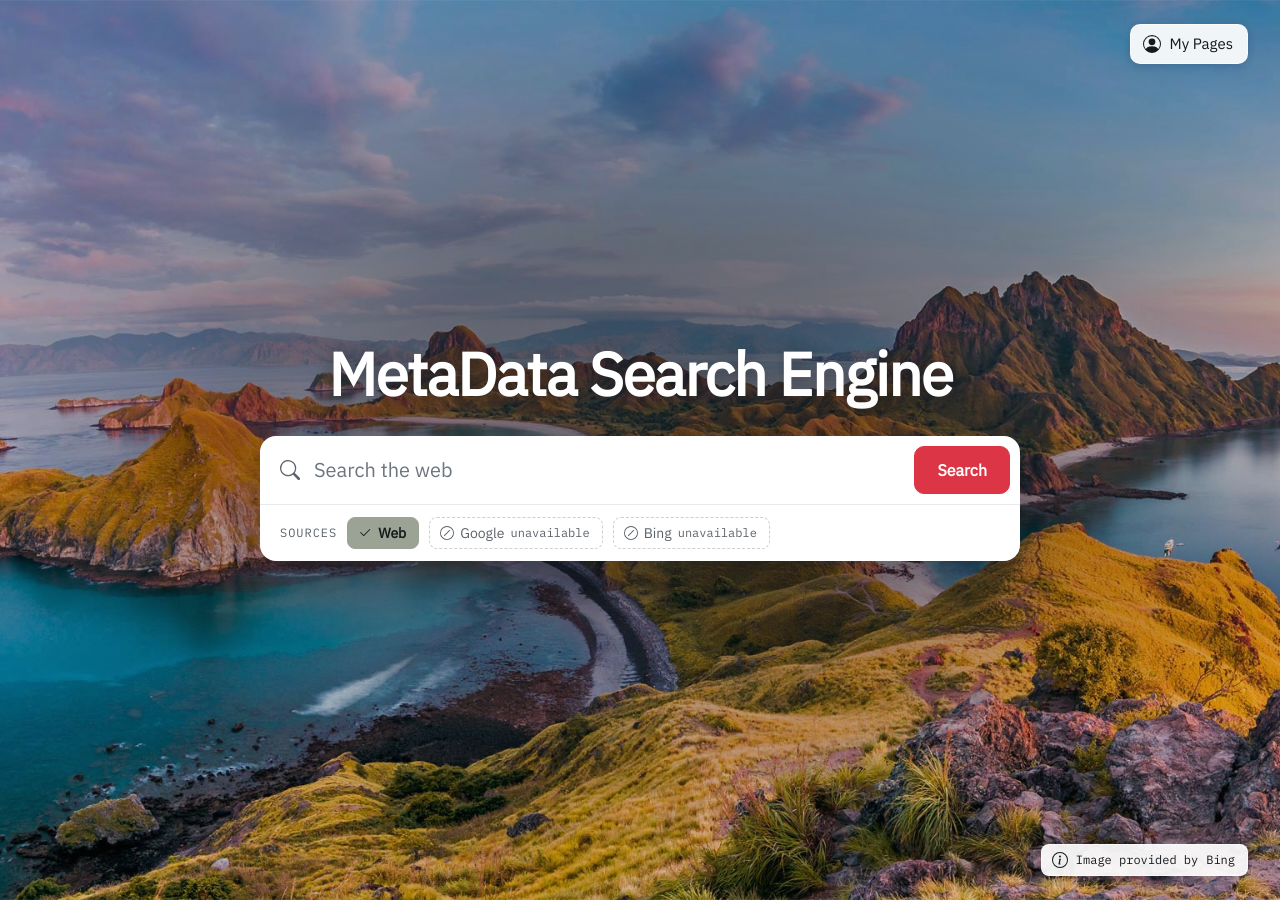
Scenario: search › explains why live search has no results: nokey
Type "burgers" into the field at (607, 470), box [314,446,900,494]
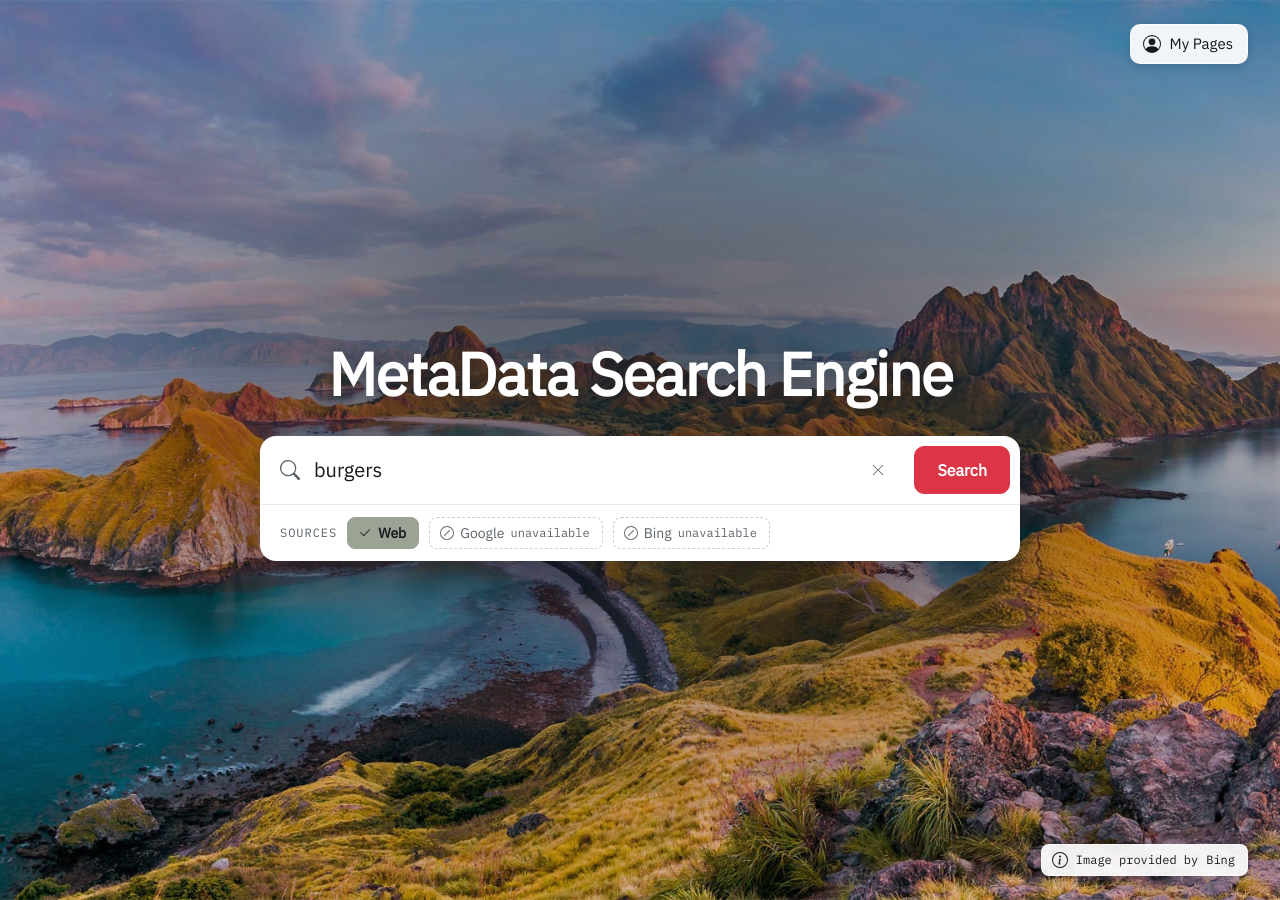
Click the button "Search" at (962, 470), box [914,446,1010,494]
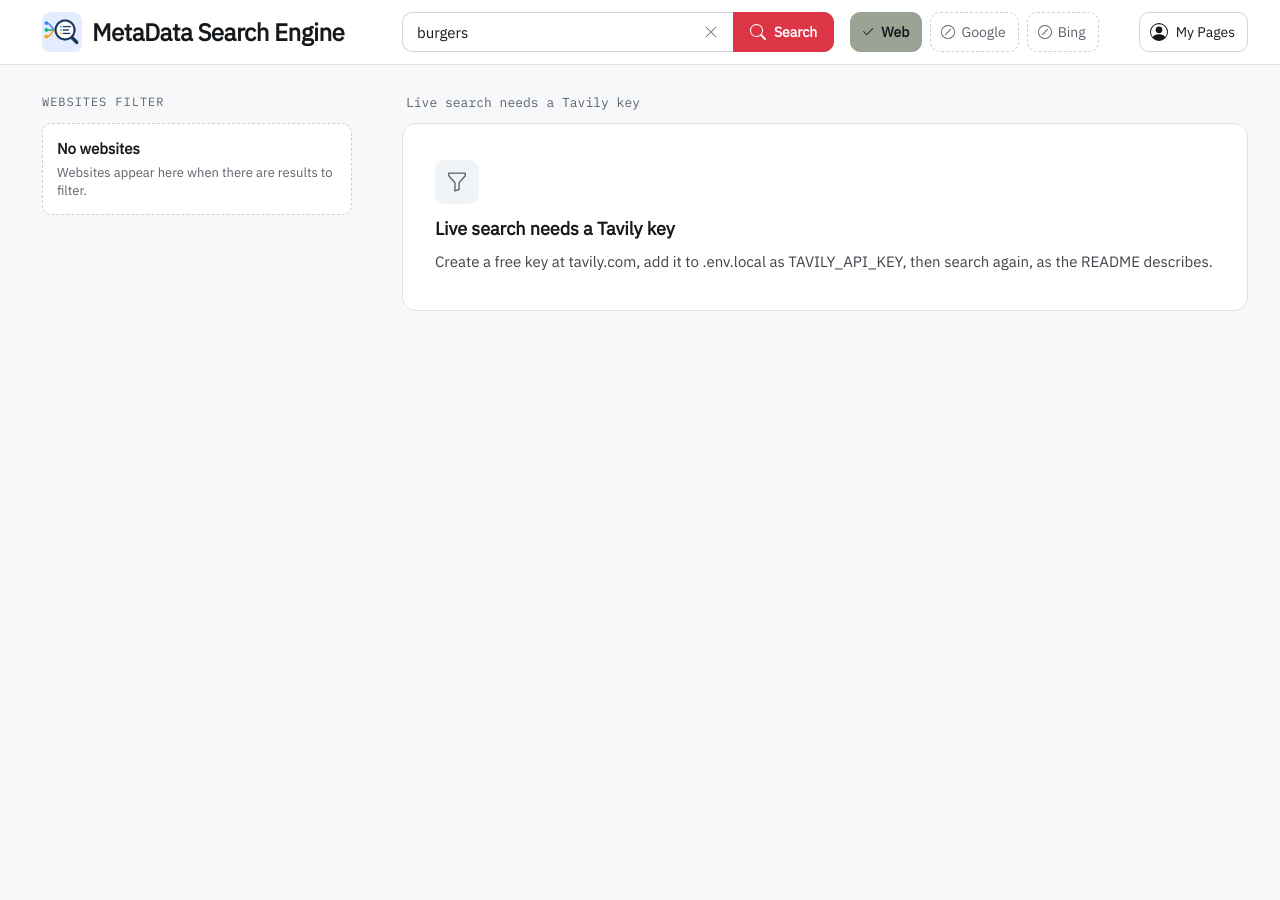
Check: the message reads "Live search needs a Tavily key", box [406,94,640,111]
Check: the heading "Live search needs a Tavily key" is shown, box [435,216,675,242]
Check: the text "TAVILY_API_KEY" is shown, box [435,252,1213,271]
